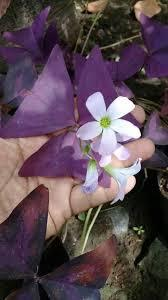butterfly flower: (19, 42, 122, 177), (3, 189, 116, 299)
